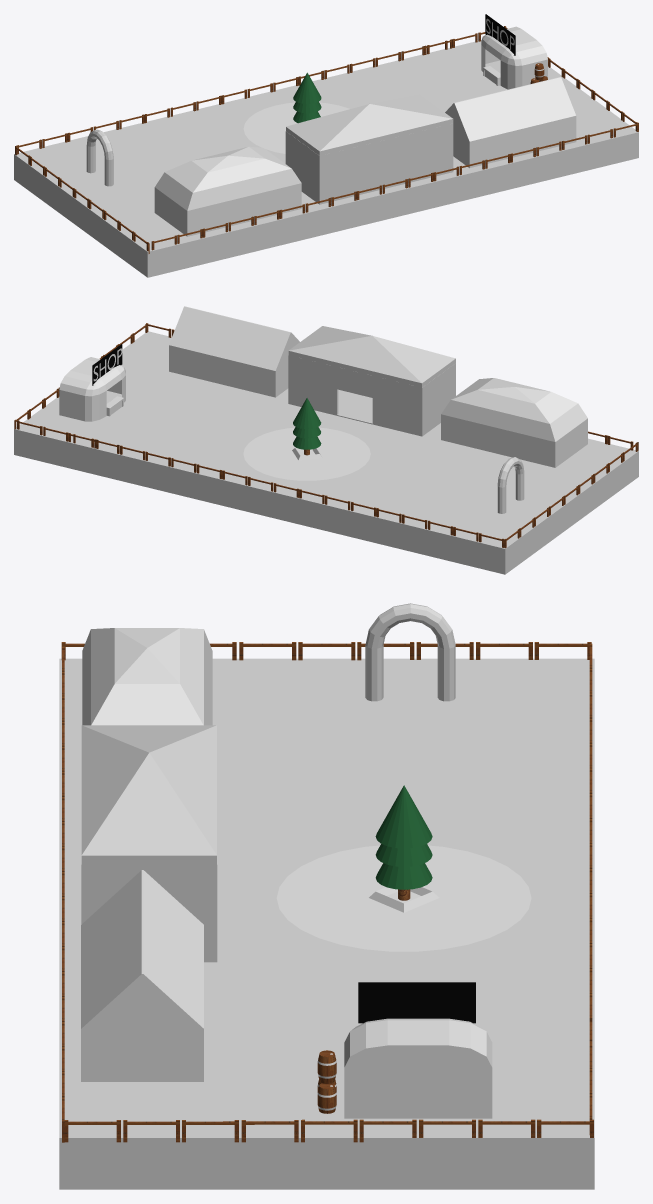
File: Villagepetit.fbx
3 renders of one model, top to bottom at view 1: azimuth 30°, elevation 25°; view 2: azimuth 150°, elevation 25°; view 3: azimuth 270°, elevation 25°, orthographic. The views are drawn at different scales.
Visible parts, largest first — view 1: Cube.001, Cube.004, house bottom left, House rigth, barierre.002, Cube, place central, Tree, Arche; view 2: Cube.001, Cube.004, house bottom left, House rigth, place central, Cube, barierre.002, Tree, Arche; view 3: Cube.001, Cube.004, House rigth, Cube, place central, house bottom left, barierre.002, Tree, Arche, Torus.
Part boxes in pixels (bbox=[...]): Cube.001: bbox=[14, 40, 638, 277]; Cube.004: bbox=[285, 94, 453, 204]; house bottom left: bbox=[154, 146, 301, 236]; House rigth: bbox=[445, 77, 576, 168]; barierre.002: bbox=[15, 26, 638, 253]; Cube: bbox=[481, 14, 547, 89]; place central: bbox=[243, 102, 349, 153]; Tree: bbox=[293, 72, 321, 123]; Arche: bbox=[86, 129, 113, 186]; Cube.001: bbox=[14, 331, 638, 574]; Cube.004: bbox=[288, 326, 455, 436]; house bottom left: bbox=[441, 378, 587, 467]; House rigth: bbox=[169, 306, 299, 397]; place central: bbox=[243, 427, 370, 480]; Cube: bbox=[59, 344, 125, 421]; barierre.002: bbox=[14, 323, 638, 548]; Tree: bbox=[293, 398, 321, 455]; Arche: bbox=[497, 457, 524, 513]; Cube.001: bbox=[59, 658, 594, 1189]; Cube.004: bbox=[81, 725, 217, 962]; House rigth: bbox=[81, 870, 203, 1081]; Cube: bbox=[317, 982, 492, 1118]; place central: bbox=[276, 845, 531, 951]; house bottom left: bbox=[82, 628, 212, 725]; barierre.002: bbox=[61, 642, 593, 1142]; Tree: bbox=[375, 785, 432, 900]; Arche: bbox=[365, 603, 455, 701]; Torus: bbox=[369, 887, 439, 912].
Size of the model in its own units: 3986 by 758 by 1882.
